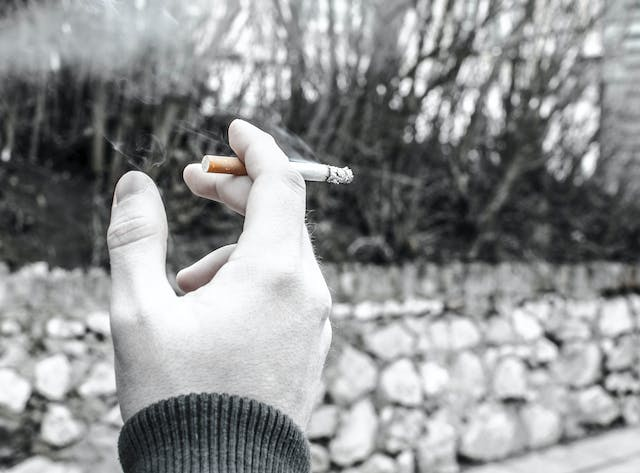Cigarette: (201, 155, 354, 184)
